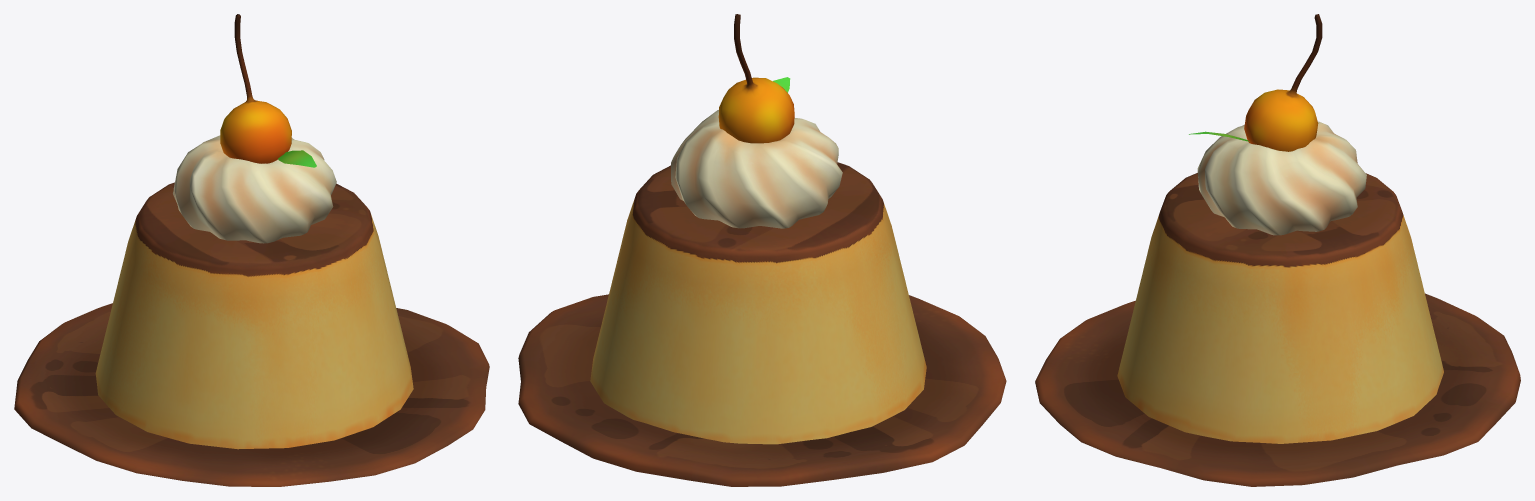
Rendered from cherry_pudding.glb.
The picture shows the model from 3 angles, left to right: view 1: azimuth 30°, elevation 25°; view 2: azimuth 150°, elevation 25°; view 3: azimuth 270°, elevation 25°; orthographic projection. The views are drawn at different scales.
Parts seen in each view (by area): view 1: Object_5, Object_2, Object_4; view 2: Object_5, Object_2, Object_4; view 3: Object_5, Object_2, Object_4.
Part boxes in pixels (x1,y1,x2,y2): Object_5: (14,182,489,486); Object_2: (173,135,336,243); Object_4: (220,14,291,163); Object_5: (518,162,1006,486); Object_2: (671,110,842,228); Object_4: (718,14,794,143); Object_5: (1035,173,1520,486); Object_2: (1197,121,1366,235); Object_4: (1244,14,1322,151).
Size of the model in its own units: 4.63 by 3.79 by 4.53.
4 materials, 4 textured.
